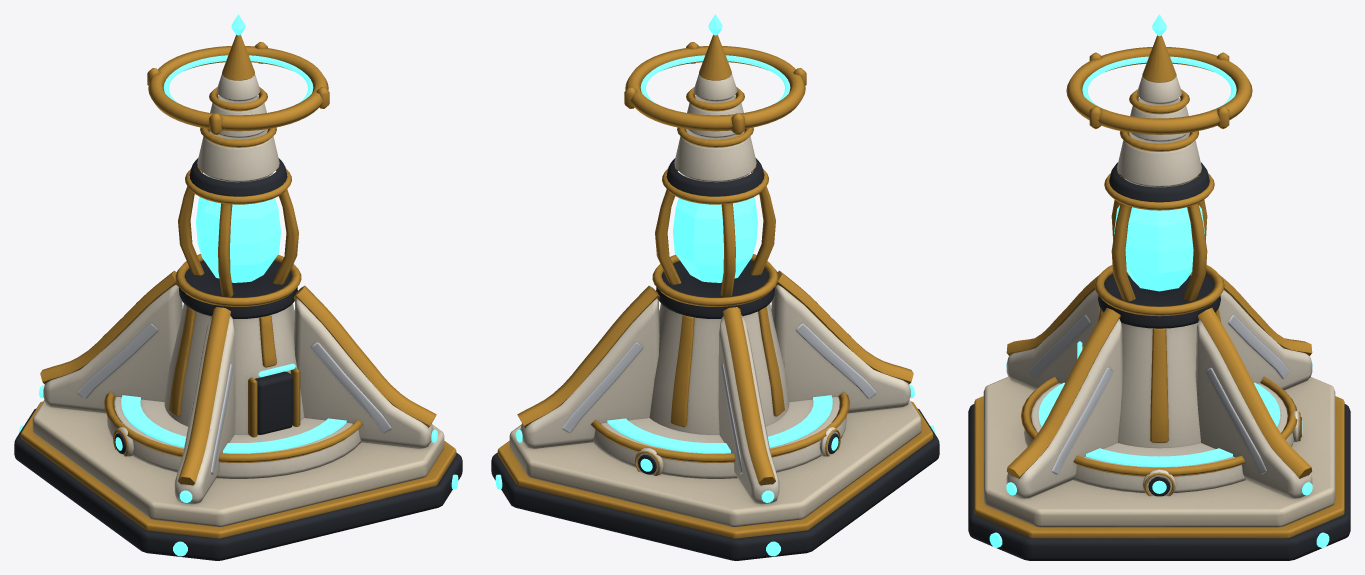
File: ambron_spire.glb
3 renders of one model, left to right at view 1: azimuth 30°, elevation 25°; view 2: azimuth 150°, elevation 25°; view 3: azimuth 270°, elevation 25°, orthographic. The views are drawn at different scales.
Visible parts, largest first — view 1: ambron_spire, ambron_spire_halo; view 2: ambron_spire, ambron_spire_halo; view 3: ambron_spire, ambron_spire_halo.
Boxes of the visible parts, <box> form: ambron_spire: <box>14,14,462,560</box>; ambron_spire_halo: <box>147,42,329,134</box>; ambron_spire: <box>491,14,939,560</box>; ambron_spire_halo: <box>624,42,806,134</box>; ambron_spire: <box>968,14,1350,560</box>; ambron_spire_halo: <box>1066,47,1252,134</box>.
Size of the model in its own units: 3.7 by 5 by 3.7.
Materials: 3 (1 with a texture image).
